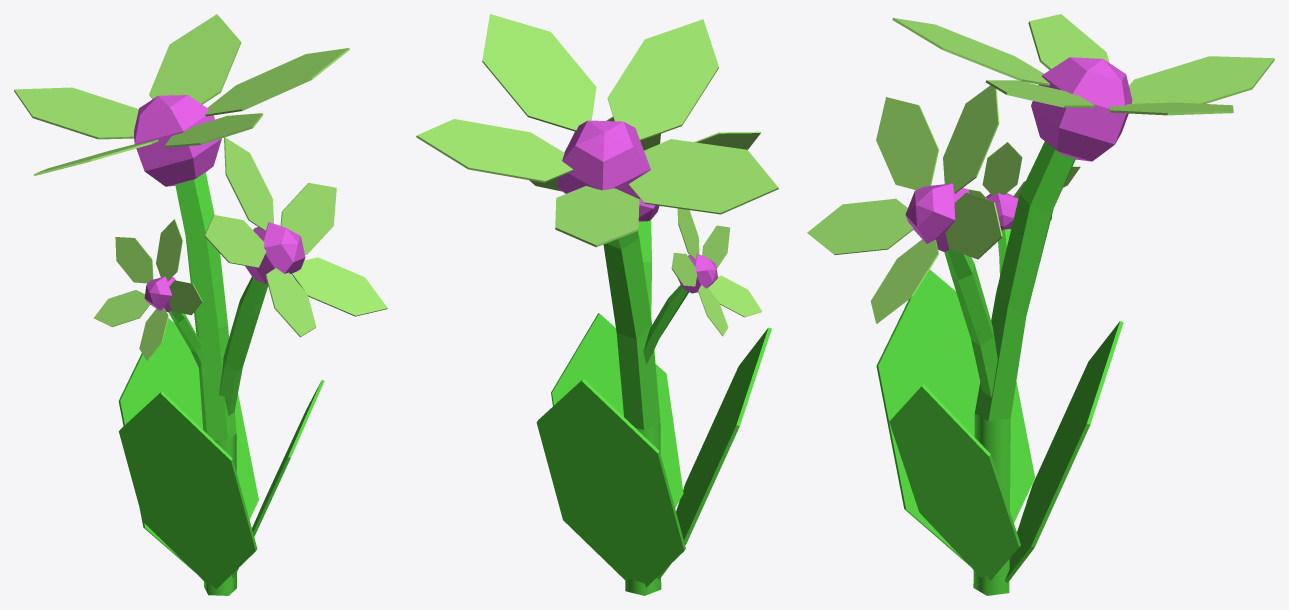
Rendered from big_flower.fbx.
3 views of the same model, side by side, from view 1: azimuth 30°, elevation 25°; view 2: azimuth 150°, elevation 25°; view 3: azimuth 270°, elevation 25° (orthographic). The views are drawn at different scales.
Visible parts, largest first — view 1: Cylinder; view 2: Cylinder; view 3: Cylinder.
Part boxes in pixels (x1,y1,x2,y2): Cylinder: [14, 14, 387, 595]; Cylinder: [416, 14, 778, 595]; Cylinder: [807, 14, 1274, 595].
Size of the model in its own units: 164 by 272 by 201.
